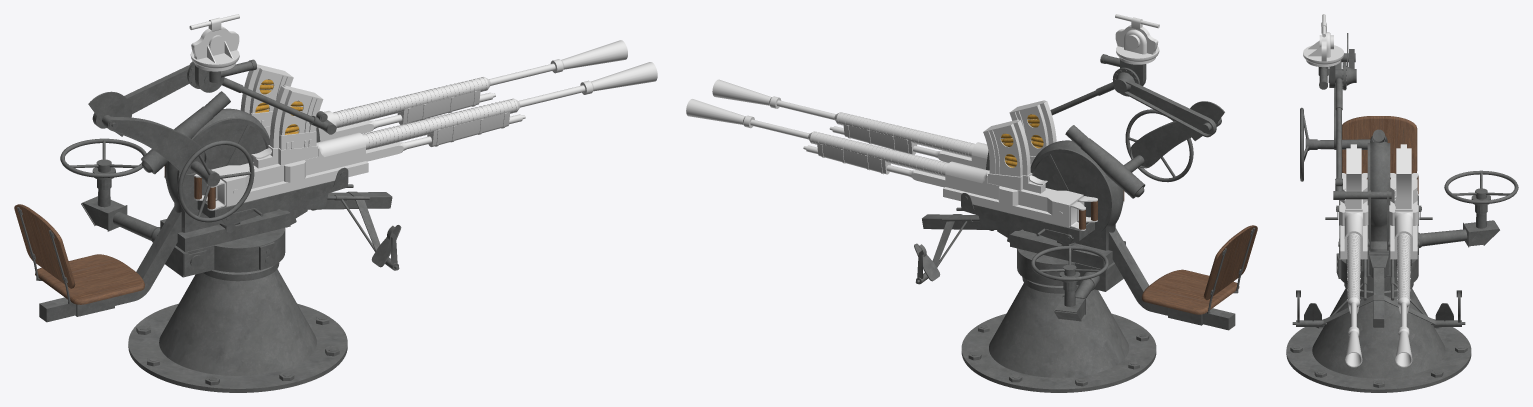
3 views of the same model, side by side, from view 1: azimuth 30°, elevation 25°; view 2: azimuth 150°, elevation 25°; view 3: azimuth 270°, elevation 25° (orthographic). The views are drawn at different scales.
Visible parts, largest first — view 1: 13mm_Type93_Turrret, 13mm_Type93_Mount, 13mm_Type93_gun.005, 13mm_Type93_gun.006, 13mm_Type93_Guns, 13mm_Type93_Sight.001, 13mm_Type93_magazine.004, 13mm_Type93_magazine.005, 13mm_Type93_Arm; view 2: 13mm_Type93_Turrret, 13mm_Type93_Mount, 13mm_Type93_gun.006, 13mm_Type93_Guns, 13mm_Type93_gun.005, 13mm_Type93_Sight.001, 13mm_Type93_magazine.005, 13mm_Type93_magazine.004; view 3: 13mm_Type93_Turrret, 13mm_Type93_Mount, 13mm_Type93_gun.006, 13mm_Type93_gun.005, 13mm_Type93_Sight.001, 13mm_Type93_Guns, 13mm_Type93_Arm, 13mm_Type93_magazine.005, 13mm_Type93_magazine.004.
Boxes of the visible parts, <box> form: 13mm_Type93_Turrret: <box>14,91,401,322</box>; 13mm_Type93_Mount: <box>128,269,347,392</box>; 13mm_Type93_gun.005: <box>194,62,657,210</box>; 13mm_Type93_gun.006: <box>164,40,627,178</box>; 13mm_Type93_Guns: <box>165,118,348,225</box>; 13mm_Type93_Sight.001: <box>88,14,256,136</box>; 13mm_Type93_magazine.004: <box>270,85,323,148</box>; 13mm_Type93_magazine.005: <box>240,64,293,114</box>; 13mm_Type93_Arm: <box>222,77,336,134</box>; 13mm_Type93_Turrret: <box>914,109,1257,330</box>; 13mm_Type93_Mount: <box>961,283,1156,392</box>; 13mm_Type93_gun.006: <box>686,99,1097,230</box>; 13mm_Type93_Guns: <box>961,148,1123,244</box>; 13mm_Type93_gun.005: <box>712,79,1124,202</box>; 13mm_Type93_Sight.001: <box>1100,14,1224,140</box>; 13mm_Type93_magazine.005: <box>983,119,1030,176</box>; 13mm_Type93_magazine.004: <box>1009,100,1056,156</box>; 13mm_Type93_Turrret: <box>1292,60,1518,327</box>; 13mm_Type93_Mount: <box>1286,288,1471,392</box>; 13mm_Type93_gun.006: <box>1389,173,1418,367</box>; 13mm_Type93_gun.005: <box>1339,173,1368,367</box>; 13mm_Type93_Sight.001: <box>1303,14,1356,90</box>; 13mm_Type93_Guns: <box>1325,143,1432,265</box>; 13mm_Type93_Arm: <box>1333,78,1391,199</box>; 13mm_Type93_magazine.005: <box>1396,144,1411,208</box>; 13mm_Type93_magazine.004: <box>1346,144,1361,208</box>.
Size of the model in its own units: 235 by 136 by 92.87.
4 materials, 3 textured.
